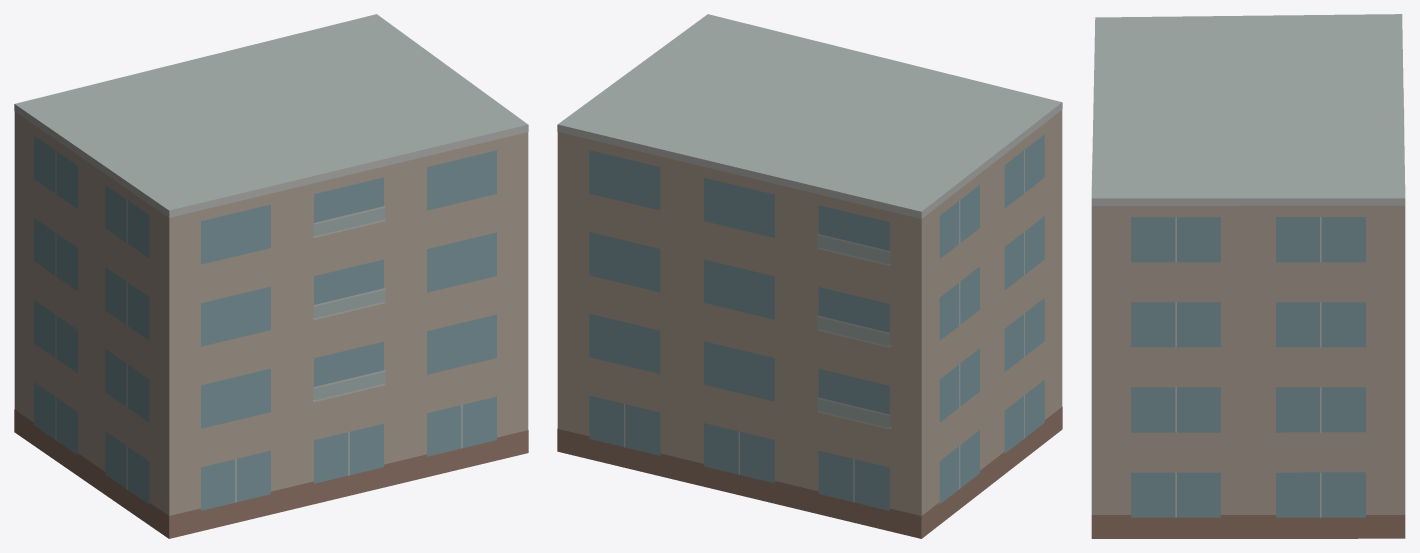
The model's file is survey-upis-32532713.glb.
3 views of the same model, side by side, from view 1: azimuth 30°, elevation 25°; view 2: azimuth 150°, elevation 25°; view 3: azimuth 270°, elevation 25° (orthographic). The views are drawn at different scales.
Visible parts, largest first — view 1: survey-upis-32532713.tmp; view 2: survey-upis-32532713.tmp; view 3: survey-upis-32532713.tmp.
Boxes of the visible parts, bbox=[...] form: survey-upis-32532713.tmp: bbox=[14, 14, 528, 538]; survey-upis-32532713.tmp: bbox=[557, 14, 1062, 538]; survey-upis-32532713.tmp: bbox=[1091, 14, 1405, 538].
Bounding box in the file's own units: 12.78 × 11 × 9.2.
